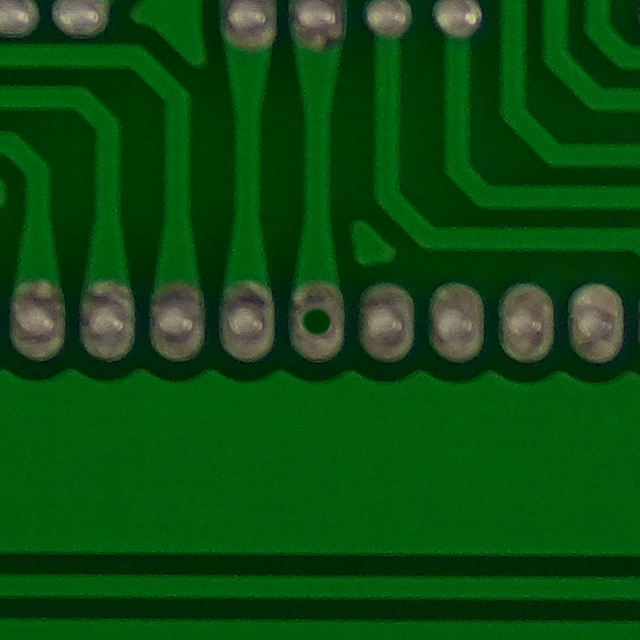missing_hole: (285, 281, 356, 360)
